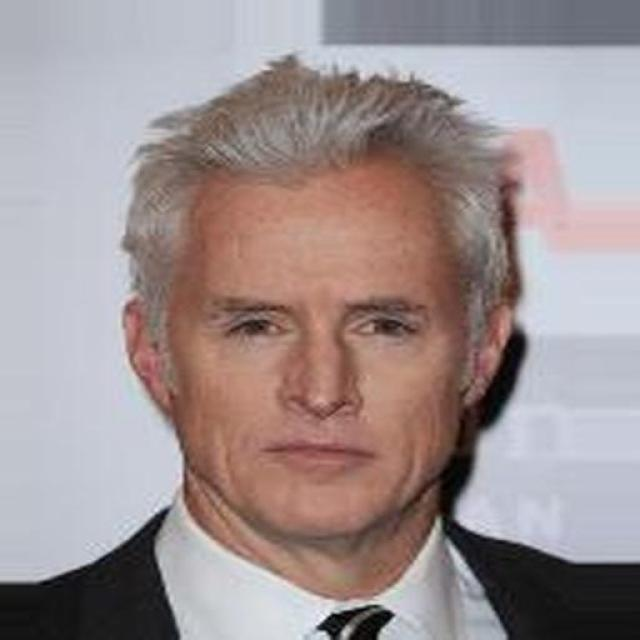bareface: (134, 81, 468, 534)
